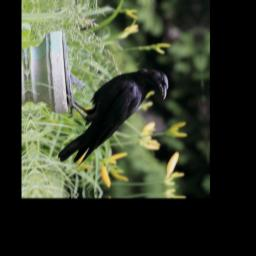Crow: (50, 67, 174, 169)
